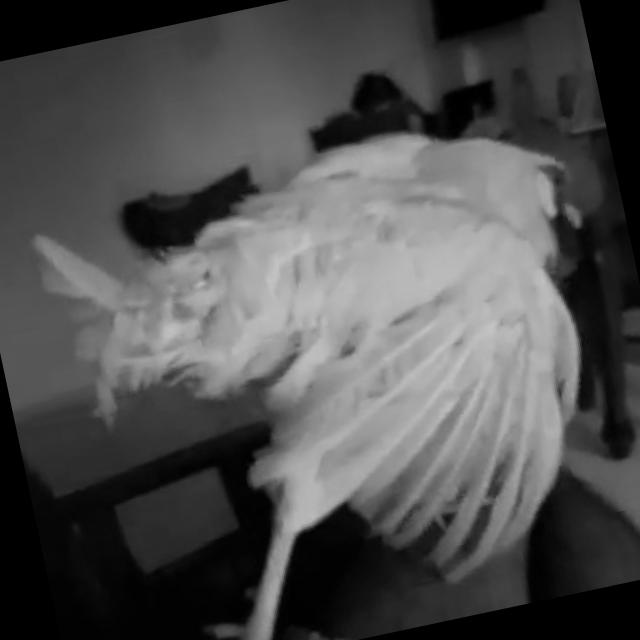wing and leg stretching: (26, 101, 640, 640)
